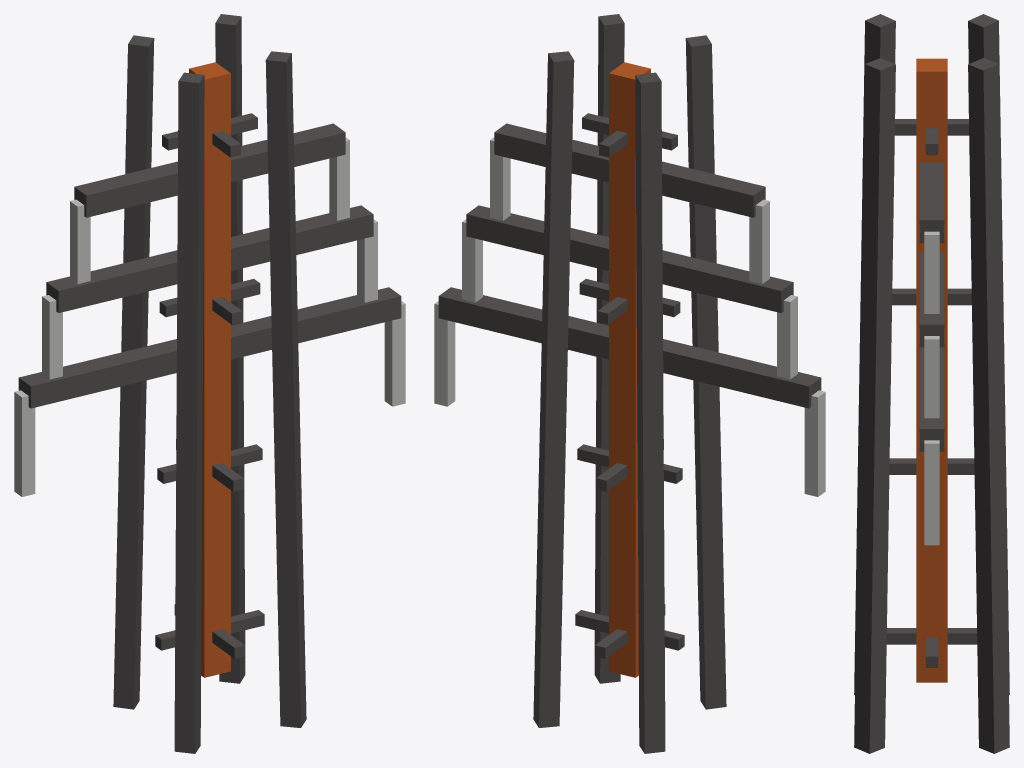
Rendered from pylon_1_kiln.glb.
3 views of the same model, side by side, from view 1: azimuth 30°, elevation 25°; view 2: azimuth 150°, elevation 25°; view 3: azimuth 270°, elevation 25° (orthographic). The views are drawn at different scales.
Parts seen in each view (by area): view 1: Cube.002, Cube, Cube.021, Cube.001, Cube.004, Cube.007, Cube.003, Cube.010, Cube.005, Cube.006, Cube.008, Cube.011 (+7 smaller); view 2: Cube.003, Cube.001, Cube.021, Cube, Cube.004, Cube.007, Cube.002, Cube.010, Cube.005, Cube.006, Cube.008, Cube.011 (+7 smaller); view 3: Cube.002, Cube.003, Cube.021, Cube, Cube.001, Cube.010, Cube.006, Cube.004, Cube.007, Cube.009, Cube.012, Cube.014 (+5 smaller).
Boxes of the visible parts, x1,y1,x2,y2 form: Cube.002: [265, 51, 306, 727]; Cube: [174, 72, 204, 753]; Cube.021: [189, 62, 230, 677]; Cube.001: [113, 35, 154, 709]; Cube.004: [18, 287, 401, 408]; Cube.007: [46, 205, 373, 312]; Cube.003: [215, 14, 245, 683]; Cube.010: [74, 123, 345, 217]; Cube.005: [14, 390, 35, 496]; Cube.006: [384, 301, 405, 406]; Cube.008: [42, 295, 62, 379]; Cube.011: [70, 199, 90, 284]; Cube.003: [533, 51, 574, 727]; Cube.001: [635, 72, 665, 753]; Cube.021: [609, 62, 650, 677]; Cube: [685, 35, 726, 709]; Cube.004: [438, 287, 821, 408]; Cube.007: [466, 205, 793, 312]; Cube.002: [594, 14, 624, 683]; Cube.010: [494, 123, 765, 217]; Cube.005: [804, 390, 825, 496]; Cube.006: [434, 301, 455, 406]; Cube.008: [777, 295, 797, 379]; Cube.011: [749, 199, 769, 284]; Cube.002: [854, 58, 895, 753]; Cube.003: [968, 58, 1009, 753]; Cube.021: [916, 58, 947, 682]; Cube: [854, 14, 895, 694]; Cube.001: [968, 14, 1009, 694]; Cube.010: [919, 162, 944, 242]; Cube.006: [924, 440, 939, 545]; Cube.004: [919, 347, 944, 451]; Cube.007: [919, 252, 944, 347]; Cube.009: [924, 336, 939, 418]; Cube.012: [924, 231, 939, 313]; Cube.014: [886, 628, 977, 644].
Bounding box in the file's own units: 7.25 × 12.01 × 2.49.
